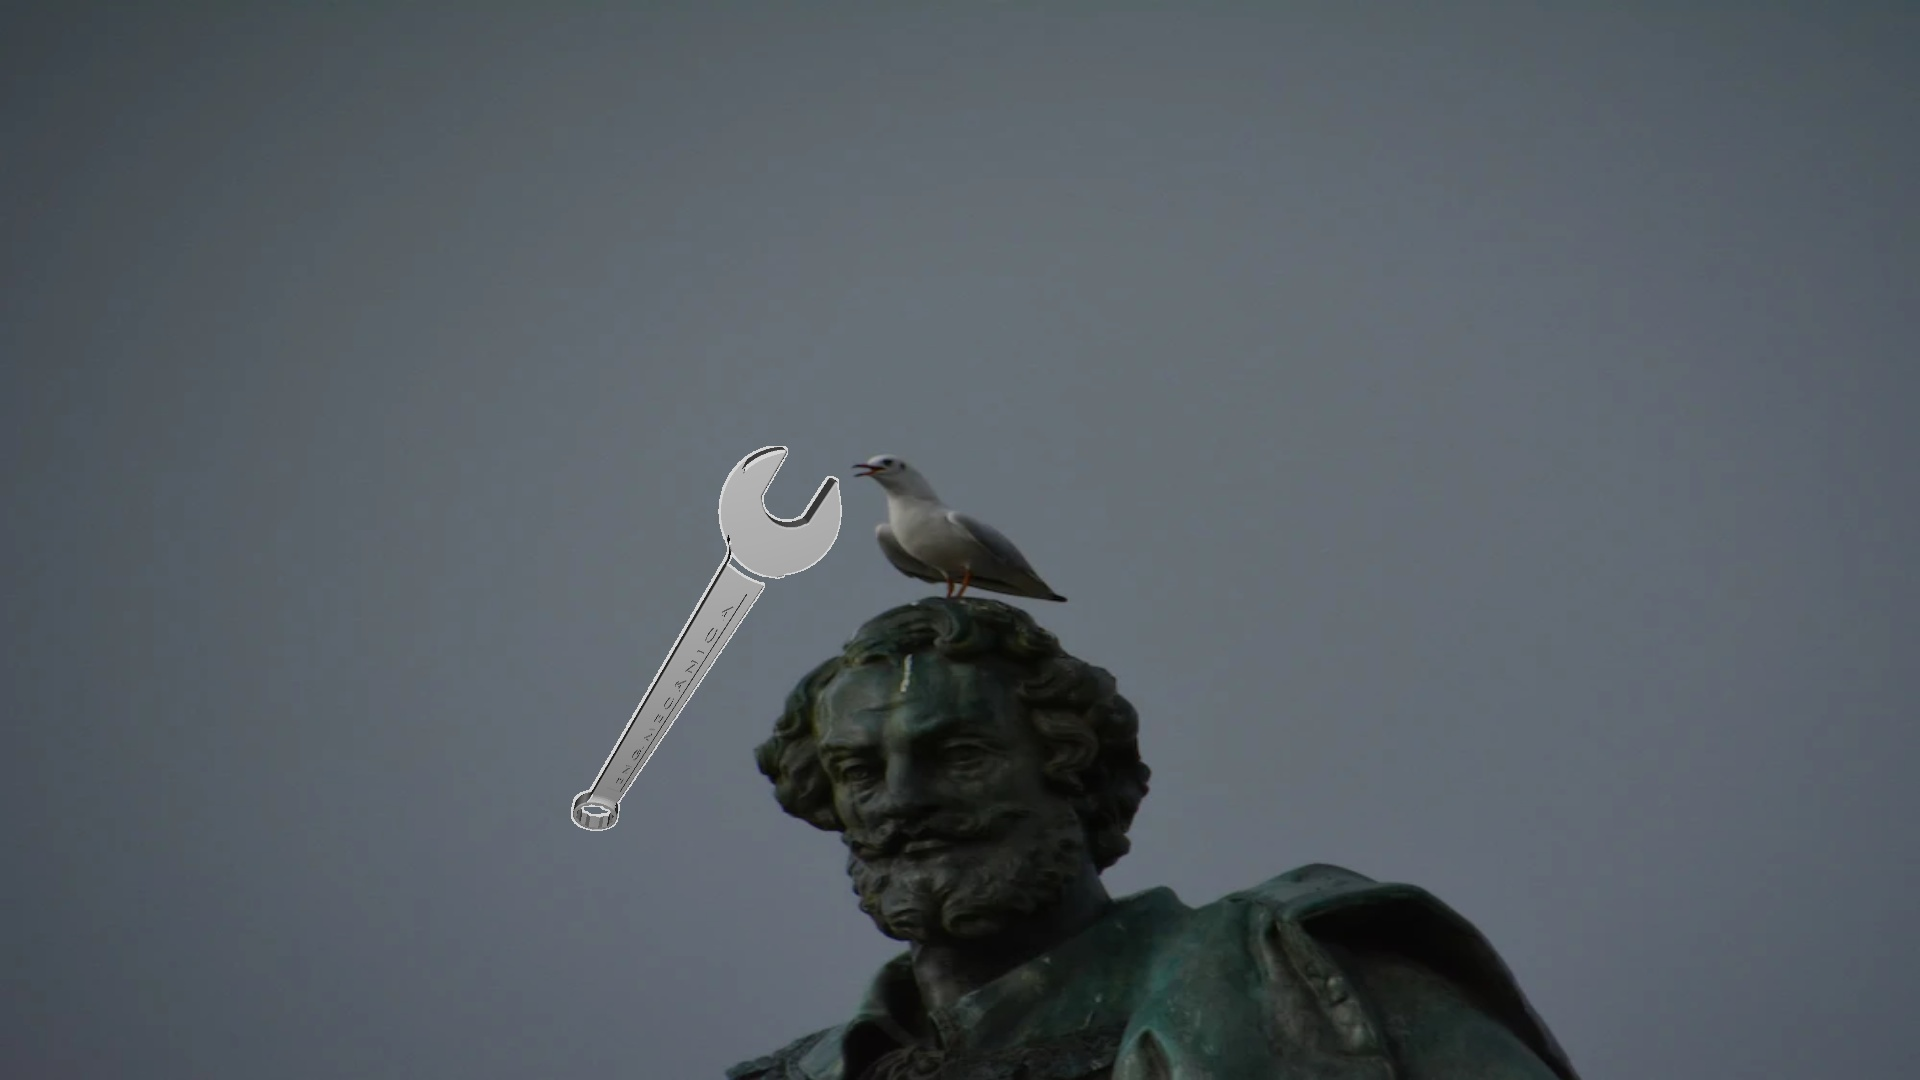Mixed Key: (571, 446, 841, 829)
